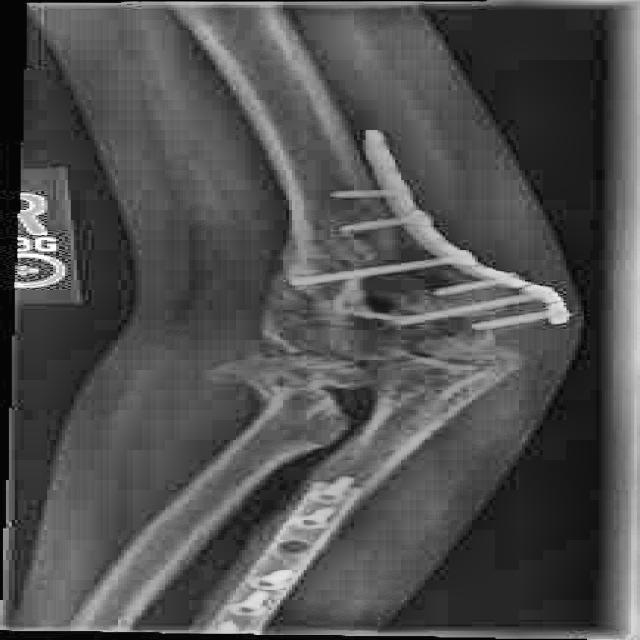elbow positive: (349, 216, 401, 234)
